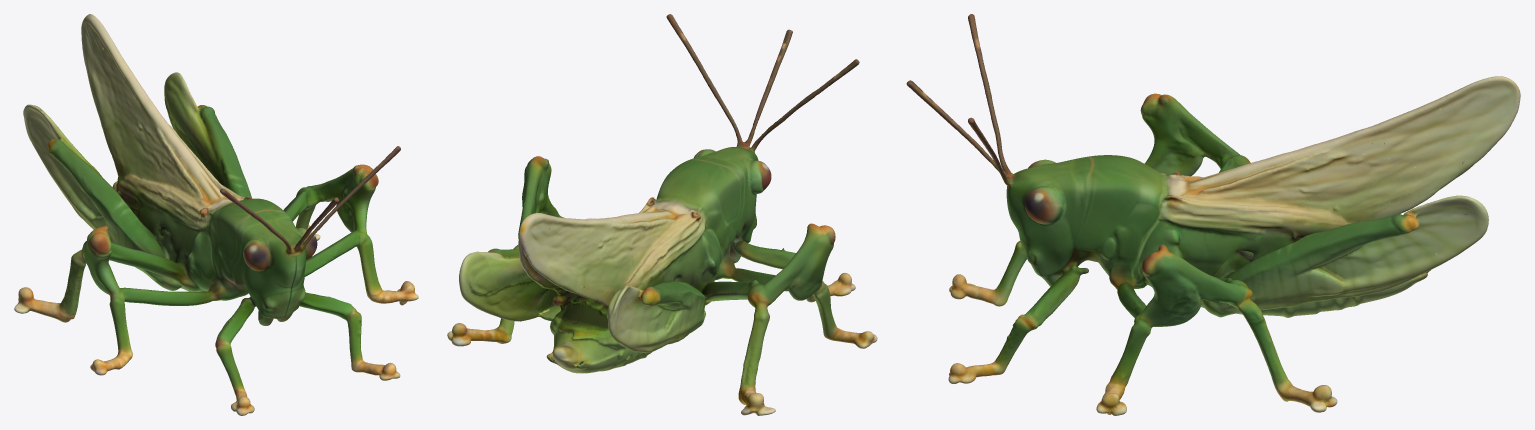
The model's file is Meshy_AI_A_photorealistic_3D_m_0425143243_texture.fbx.
3 renders of one model, left to right at view 1: azimuth 30°, elevation 25°; view 2: azimuth 150°, elevation 25°; view 3: azimuth 270°, elevation 25°, orthographic. The views are drawn at different scales.
Visible parts, largest first — view 1: Mesh_0; view 2: Mesh_0; view 3: Mesh_0.
Part boxes in pixels (x1,y1,x2,y2): Mesh_0: (14, 14, 418, 415); Mesh_0: (447, 14, 877, 415); Mesh_0: (906, 14, 1520, 415).
Bounding box in the file's own units: 147 × 98.51 × 200.
Materials: 1 (1 with a texture image).
